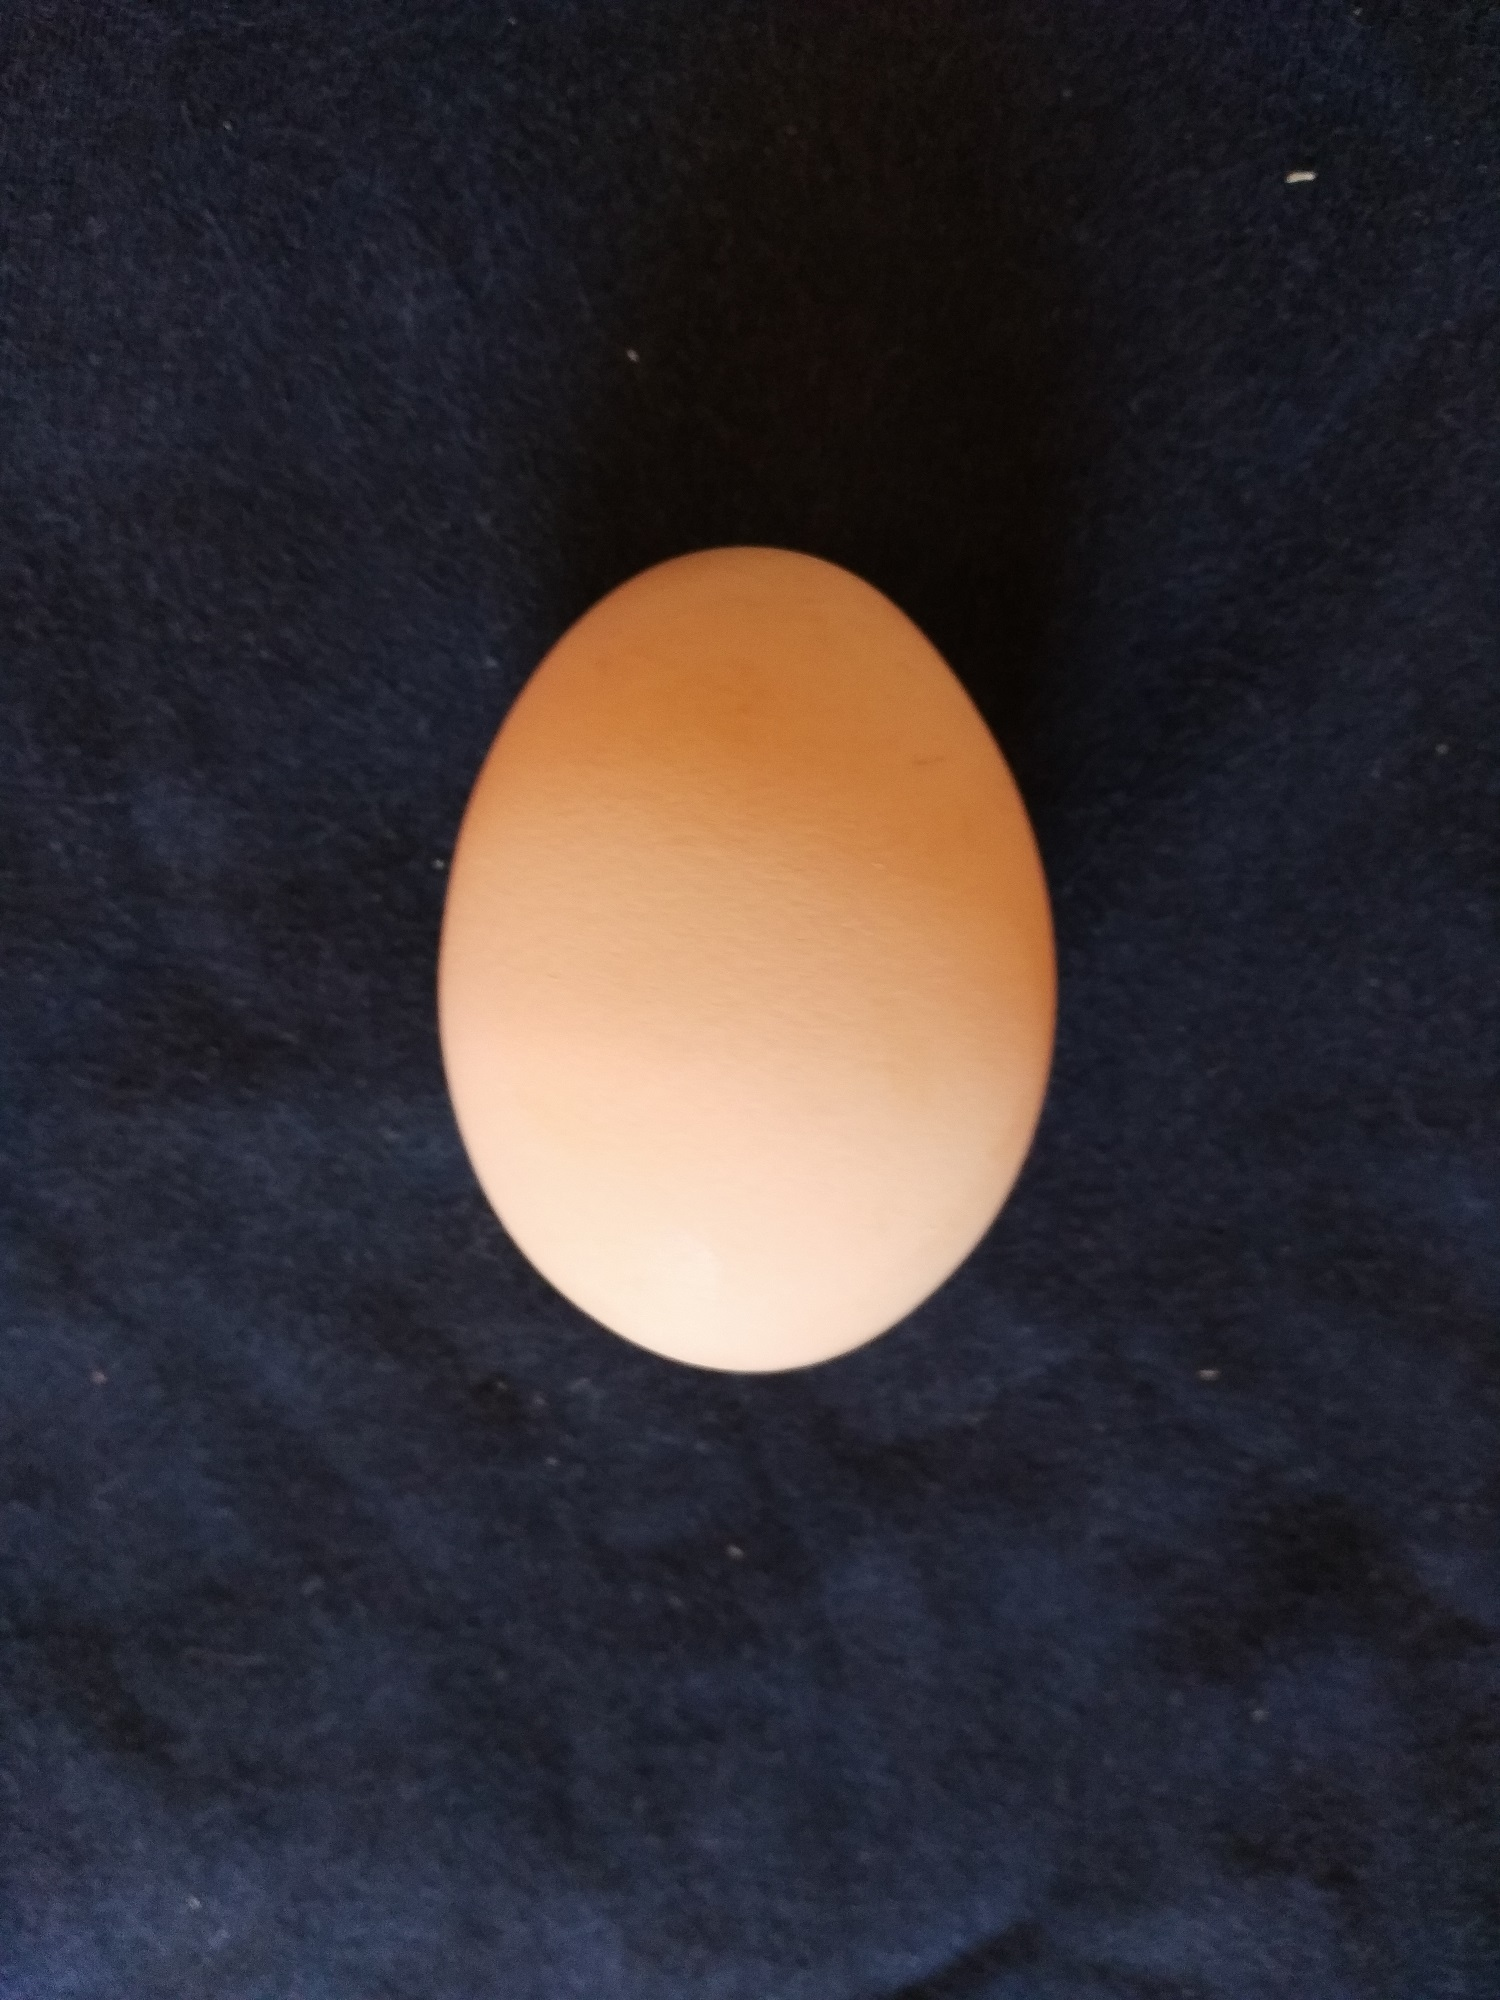Female: (432, 542, 1060, 1376)
